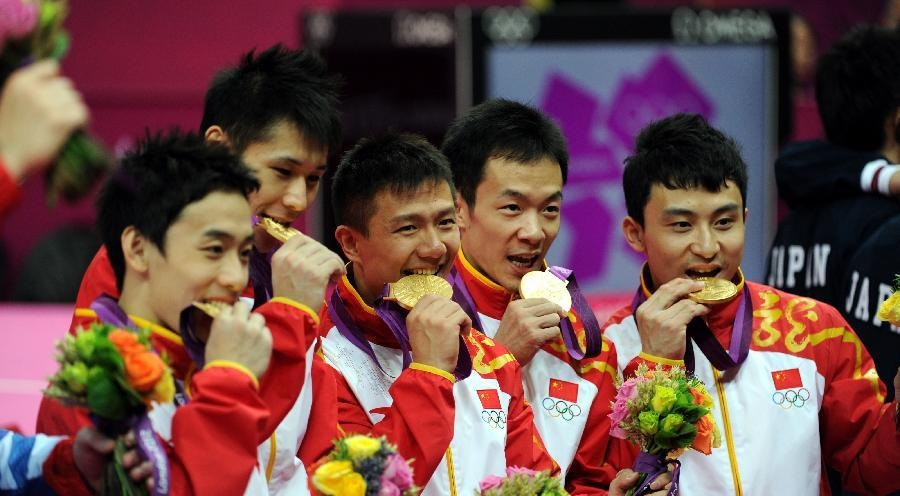face: (165, 195, 264, 325), (241, 116, 341, 240), (372, 175, 462, 297), (480, 157, 563, 287), (648, 180, 741, 290)
